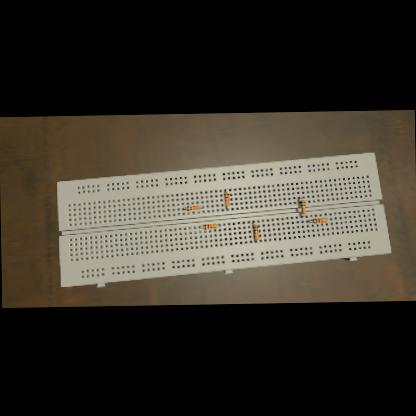breadboard: (56, 150, 392, 286)
resistor: (224, 192, 230, 206), (300, 200, 306, 214), (312, 216, 326, 222), (203, 222, 217, 228), (186, 205, 200, 210), (253, 224, 258, 238)
wire: (298, 196, 302, 199), (252, 220, 255, 224), (300, 214, 304, 216), (226, 205, 228, 208), (224, 188, 226, 190), (182, 208, 186, 209), (254, 239, 256, 241), (199, 225, 202, 226), (218, 224, 219, 226), (200, 206, 202, 206)
